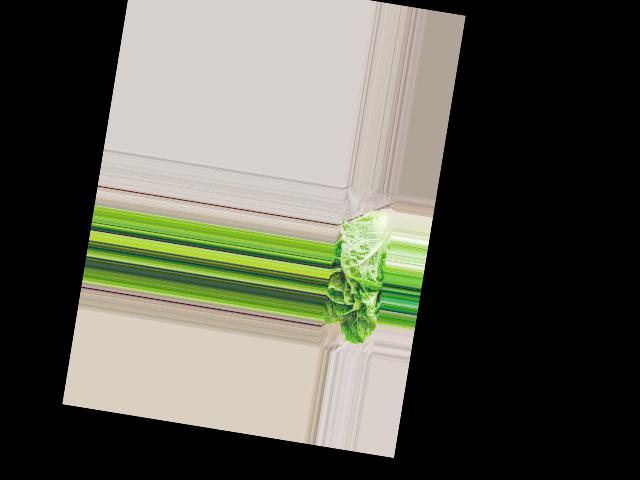lettuce: (320, 205, 394, 338)
